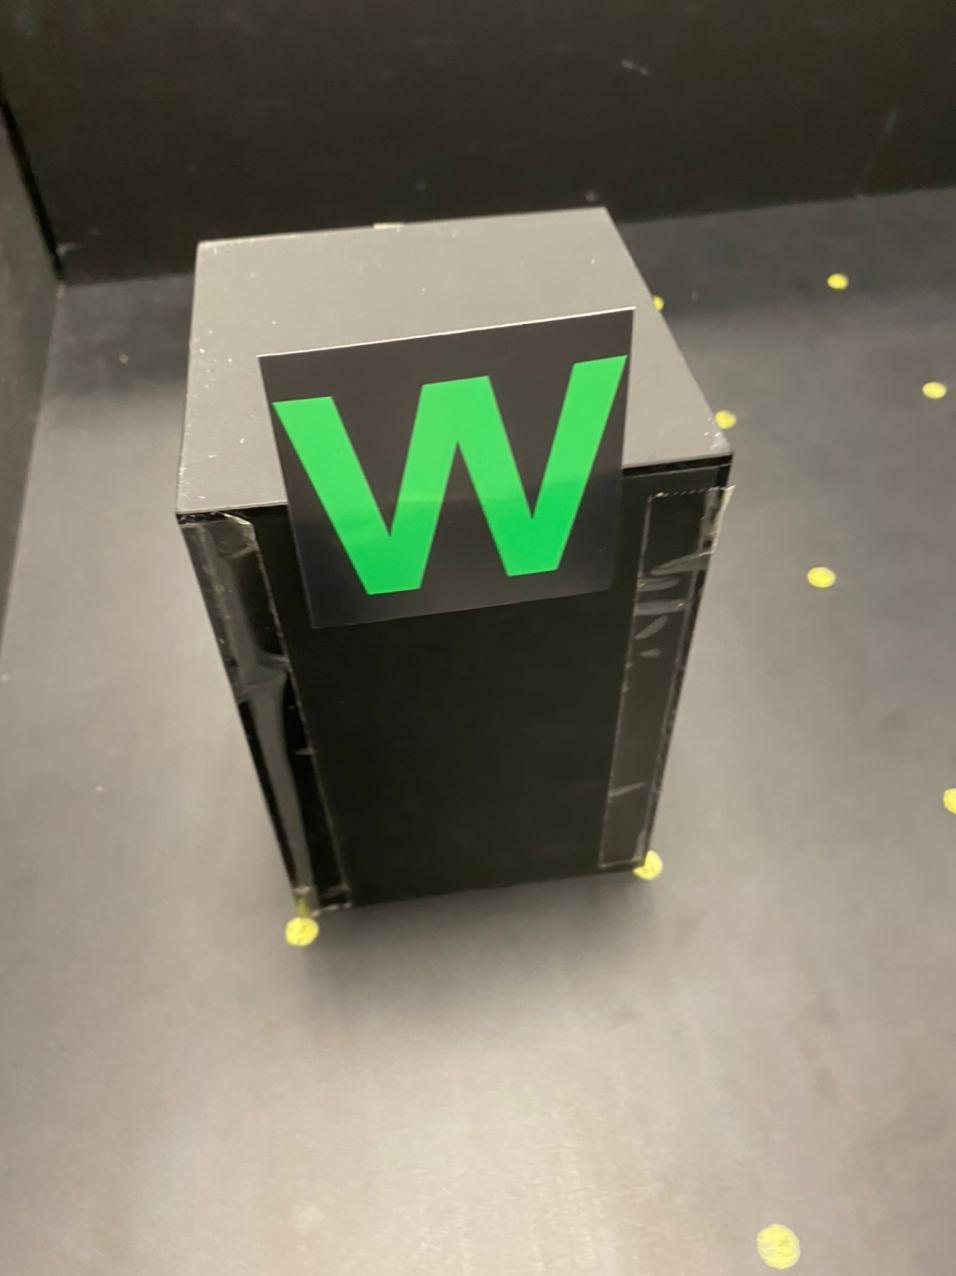w: (251, 338, 637, 601)
